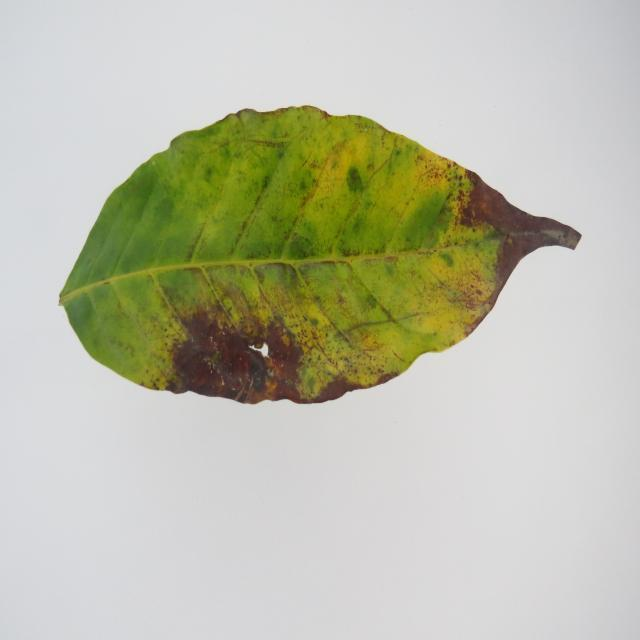DeficienciaNutricional-Potasio: (60, 107, 580, 403)
